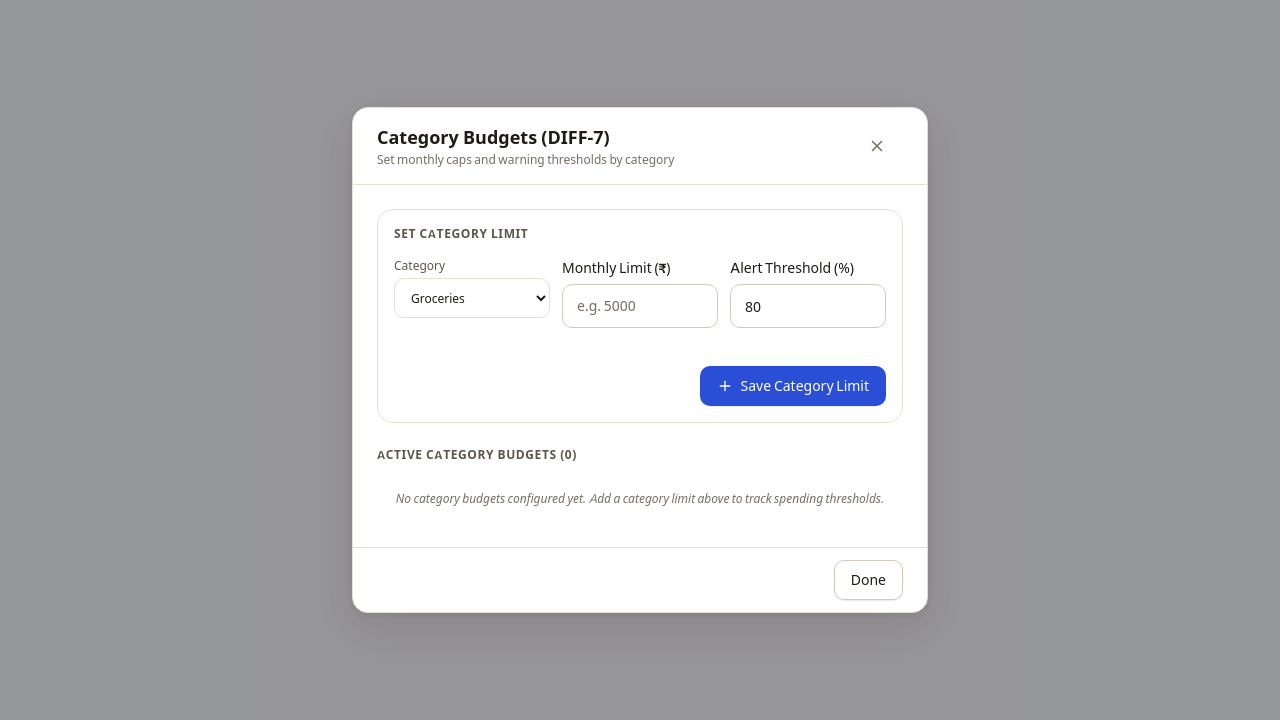
Scenario: Category Budget Targets with Threshold Warnings (DIFF-7) › saves new category limit and displays status badge and progress
This screenshot has width=1280, height=720.
Type "10000" into the number field labelled "Monthly Limit (₹)" at point(640, 306), box top-left (562, 284), bottom-right (718, 328)
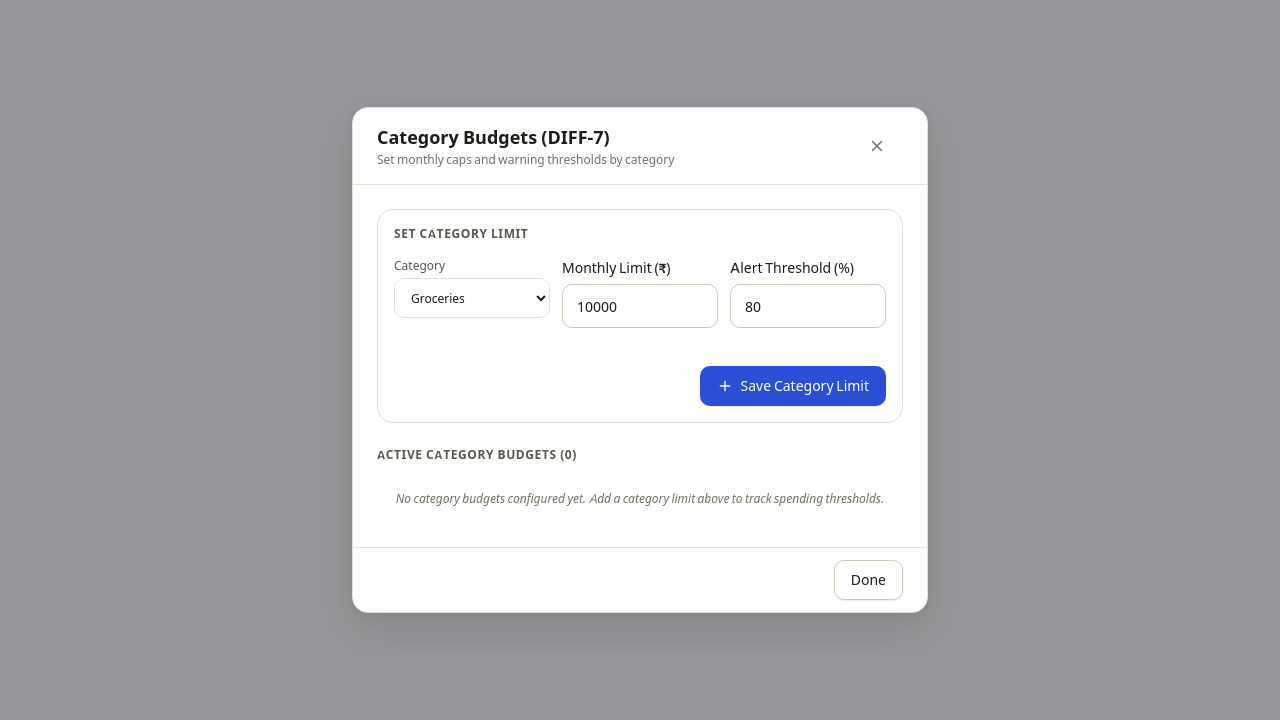
Click the button "Save Category Limit" at point(793, 386), box top-left (700, 366), bottom-right (886, 406)
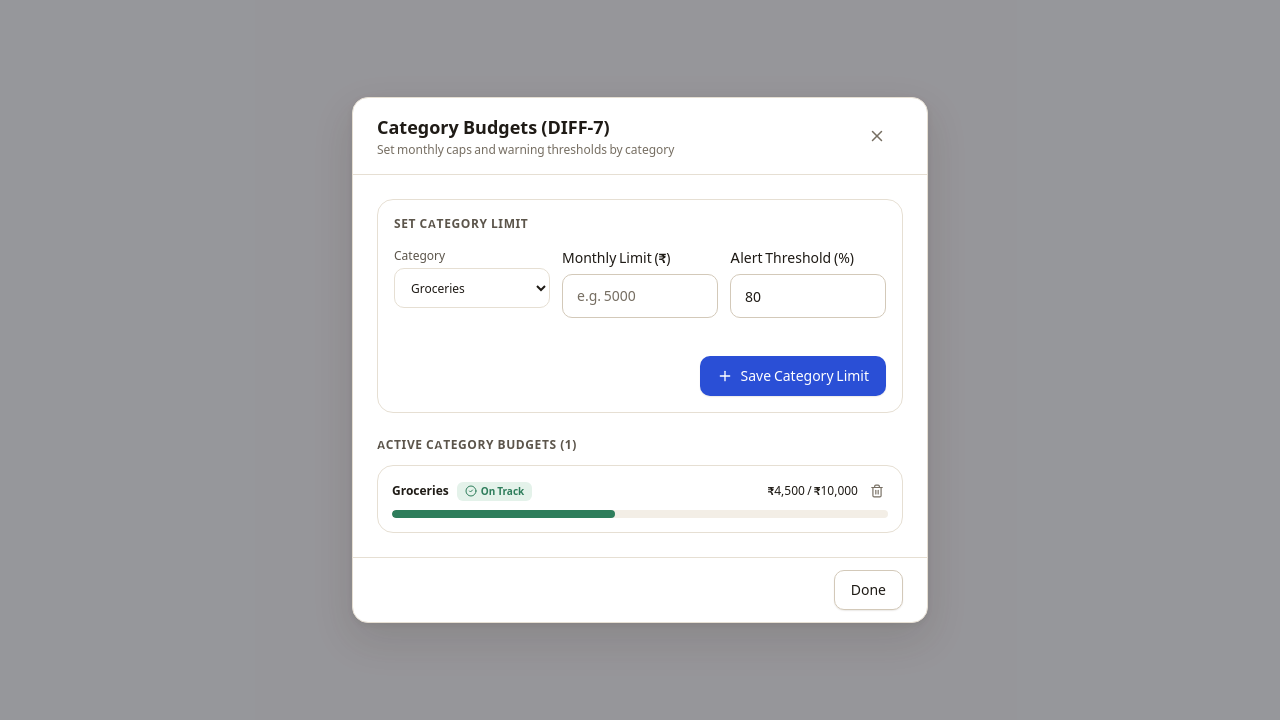
Result: the text "On Track" is shown at top-left (457, 482), bottom-right (532, 500)
